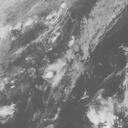cyclone: (29, 46, 80, 97)
